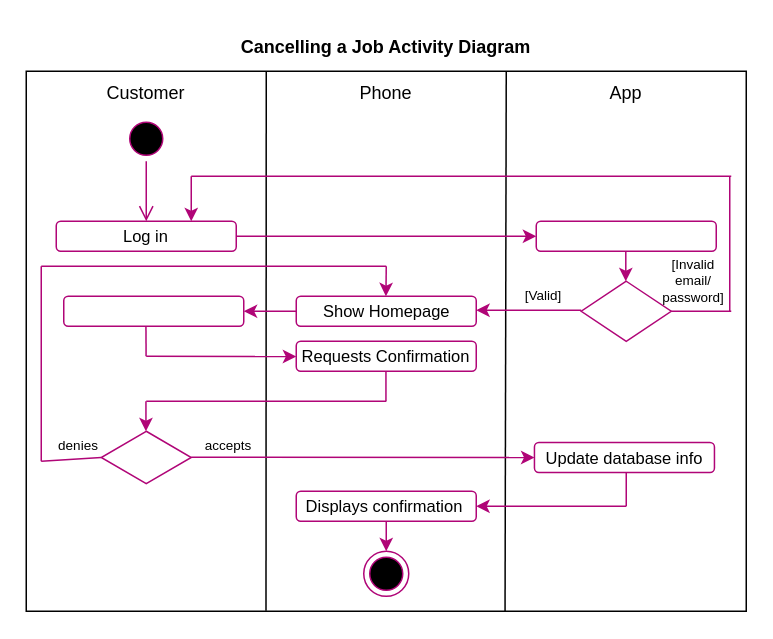
The diagram is 773 pixels wide and 639 high, and some of its shapes have lost their labels. Each missing label, with the centre of its shape:
Authorize: point 625,235
Request to cancel job: point 153,310
